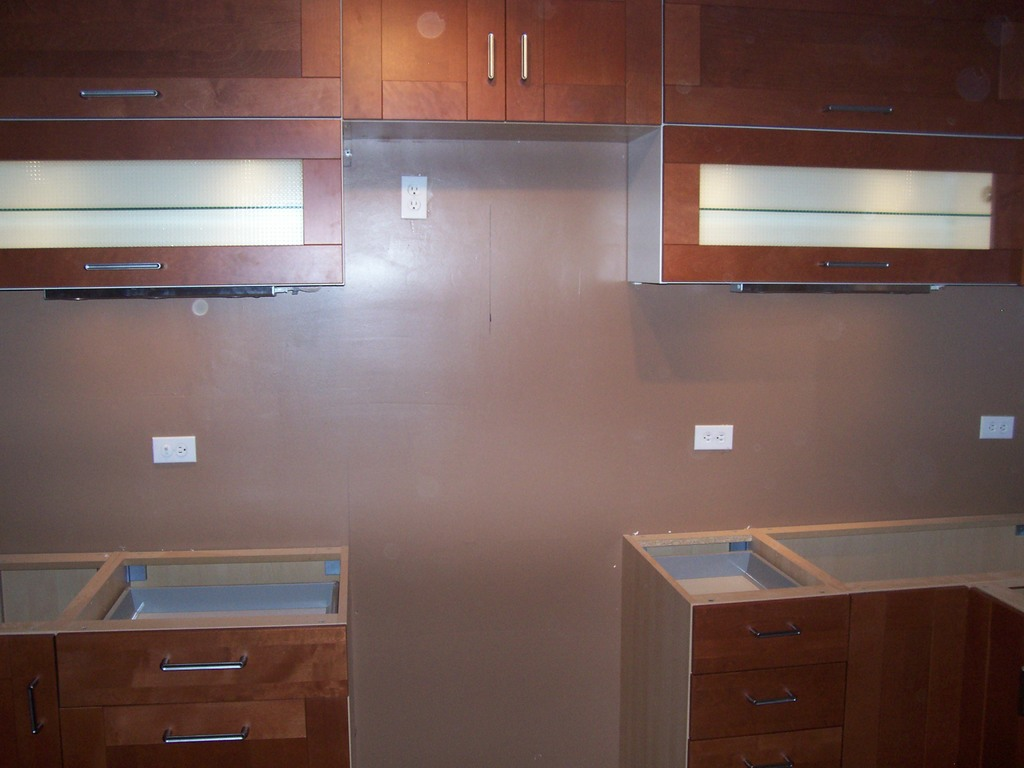cabinet door: (665, 132, 1020, 286), (7, 122, 338, 274), (664, 12, 1016, 133), (2, 2, 333, 106), (57, 635, 350, 700), (62, 702, 343, 768), (347, 2, 502, 114), (508, 4, 662, 109), (700, 595, 849, 663), (696, 667, 847, 727), (1, 639, 63, 763)
handle: (78, 81, 162, 109), (819, 251, 897, 281), (159, 726, 251, 751), (825, 96, 894, 125), (158, 658, 253, 678), (748, 684, 801, 716), (15, 679, 44, 734), (84, 258, 166, 276), (754, 623, 798, 655), (514, 29, 537, 86), (482, 33, 502, 91)
